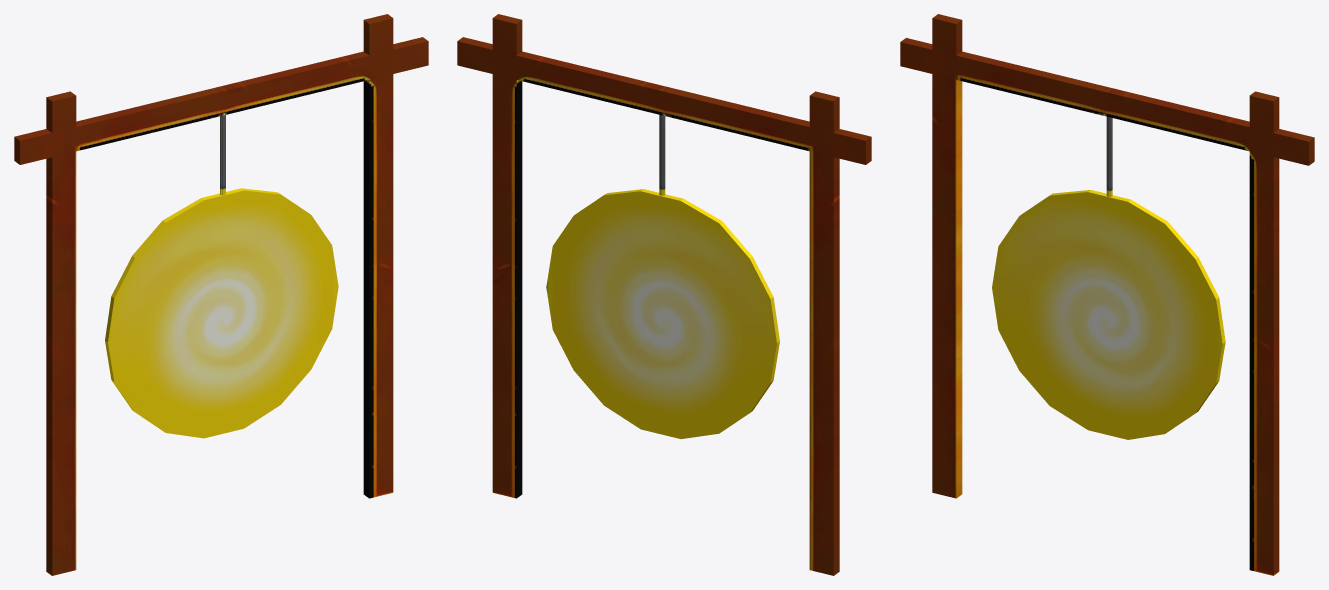
File: Gong.glb
3 renders of one model, left to right at view 1: azimuth 30°, elevation 25°; view 2: azimuth 150°, elevation 25°; view 3: azimuth 330°, elevation 25°, orthographic.
Visible parts, largest first — view 1: Gong; view 2: Gong; view 3: Gong.
Part boxes in pixels (x1,y1,x2,y2): Gong: (14,14,428,575); Gong: (457,14,871,575); Gong: (900,14,1314,575).
Size of the model in its own units: 296 by 328 by 7.24.
1 material, 1 textured.
